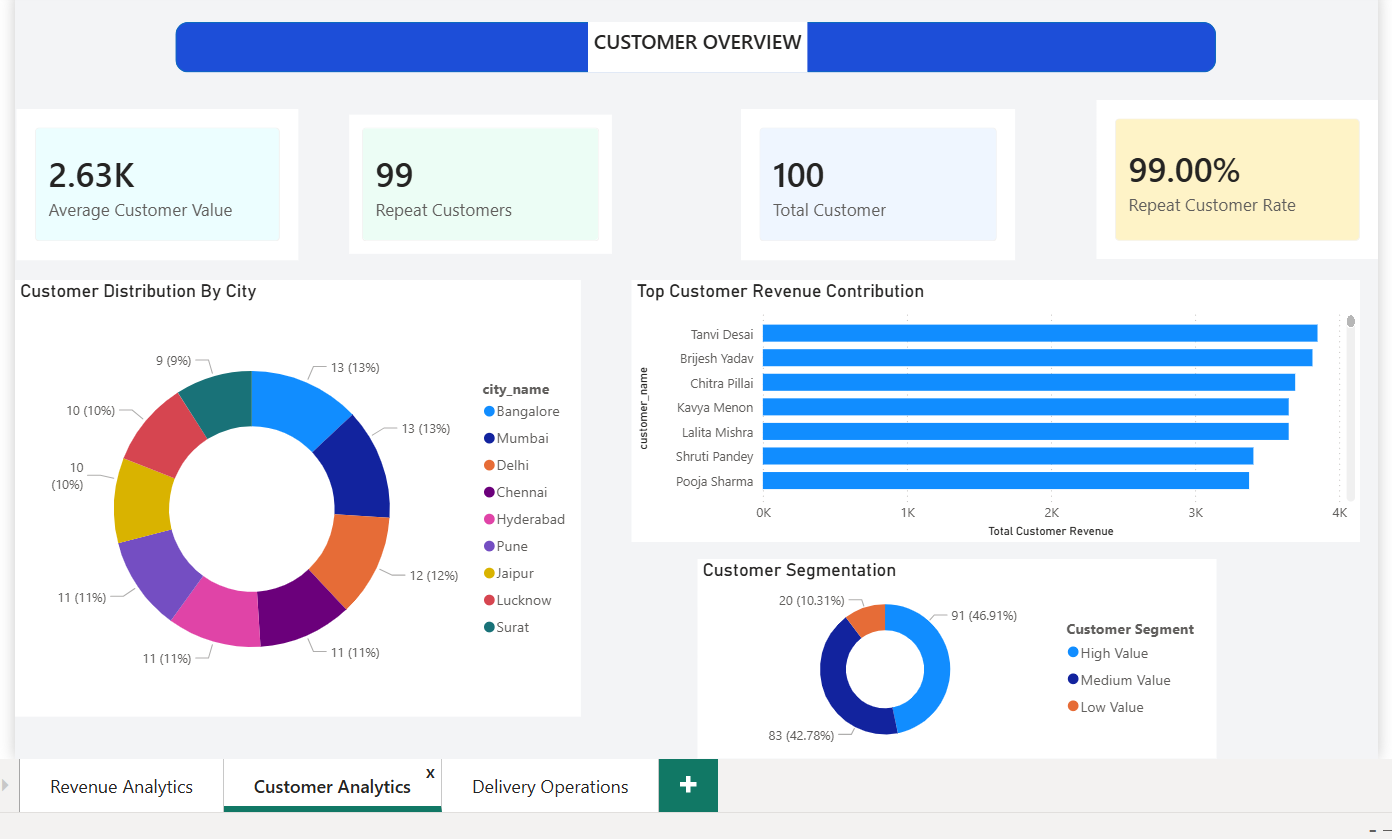

What the dashboard file says about the page in this screenshot:
{"tool":"powerbi","page":{"name":"Customer Analytics","canvas":[1280,720],"ordinal":1},"visuals":[{"type":"cardVisual","fields":{"Data":["customer_analytics_dataset.Average Customer Value"]},"box":[1.9,109.6,264.6,141.7],"z":0},{"type":"cardVisual","fields":{"Data":["customer_analytics_dataset.Repeat Customers"]},"box":[308,109.6,257,141.7],"z":1000},{"type":"cardVisual","fields":{"Data":["customer_analytics_dataset.Total Customer"]},"box":[682.2,109.6,257,141.7],"z":2000},{"type":"cardVisual","fields":{"Data":["customer_analytics_dataset.Repeat Customer Rate"]},"box":[1014.8,102,264.6,149.3],"z":3000},{"type":"donutChart","title":"Customer Segmentation","fields":{"Category":["customer_analytics_dataset.Customer Segment"],"Y":["Count(customer_analytics_dataset.customer_id)"]},"box":[640.6,532.9,487.6,187.1],"z":4000},{"type":"clusteredBarChart","title":"Top Customer Revenue Contribution","fields":{"Category":["customer_analytics_dataset.customer_name"],"Y":["customer_analytics_dataset.Total Customer Revenue"]},"box":[578.3,270.2,684.1,245.7],"z":5000},{"type":"donutChart","title":"Customer Distribution By City","fields":{"Category":["customer_analytics_dataset.city_name"],"Y":["Count(customer_analytics_dataset.customer_id)"]},"box":[0,270.2,531,410.1],"z":6000},{"type":"shape","box":[151.2,28.3,977,47.2],"z":7000},{"type":"textbox","box":[538.6,28.3,206,47.2],"z":8000}]}

Visuals, with their boxes on the page's 1280x720 design canvas (x1, y1, x2, y2). These are canvas units, not pixel positions in the 1392x839 screenshot, which may show the page scaled, cropped or inside an application window:
cardVisual - customer_analytics_dataset.Average Customer Value: x1=2 y1=110 x2=266 y2=251
cardVisual - customer_analytics_dataset.Repeat Customers: x1=308 y1=110 x2=565 y2=251
cardVisual - customer_analytics_dataset.Total Customer: x1=682 y1=110 x2=939 y2=251
cardVisual - customer_analytics_dataset.Repeat Customer Rate: x1=1015 y1=102 x2=1279 y2=251
"Customer Segmentation" donutChart: x1=641 y1=533 x2=1128 y2=720
"Top Customer Revenue Contribution" clusteredBarChart: x1=578 y1=270 x2=1262 y2=516
"Customer Distribution By City" donutChart: x1=0 y1=270 x2=531 y2=680
shape: x1=151 y1=28 x2=1128 y2=76
textbox: x1=539 y1=28 x2=745 y2=76
